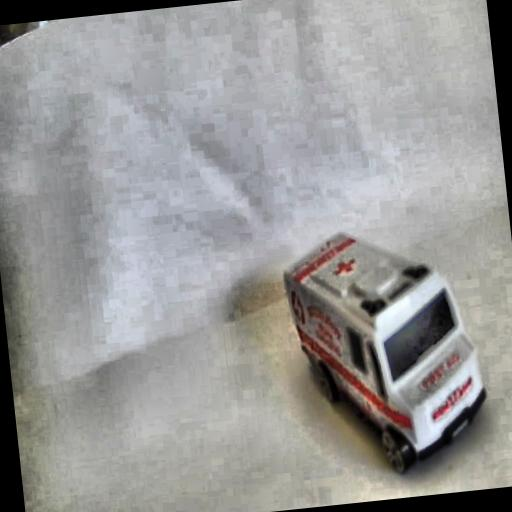ambulance: (278, 218, 494, 484)
